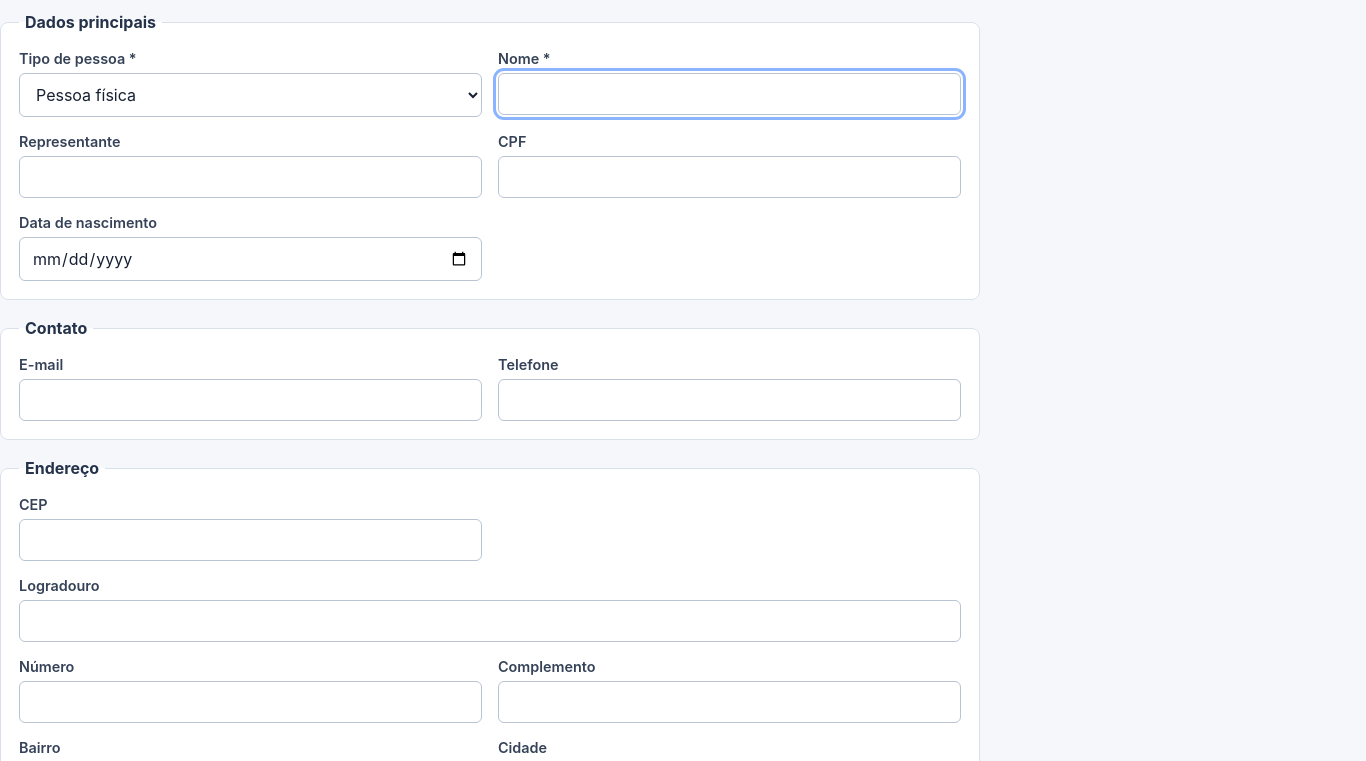
Test: CustomerForm › switches to company fields
Select "Pessoa jurídica" in the dropdown labelled "Tipo de pessoa *" at [250, 95], box [19, 73, 482, 117]
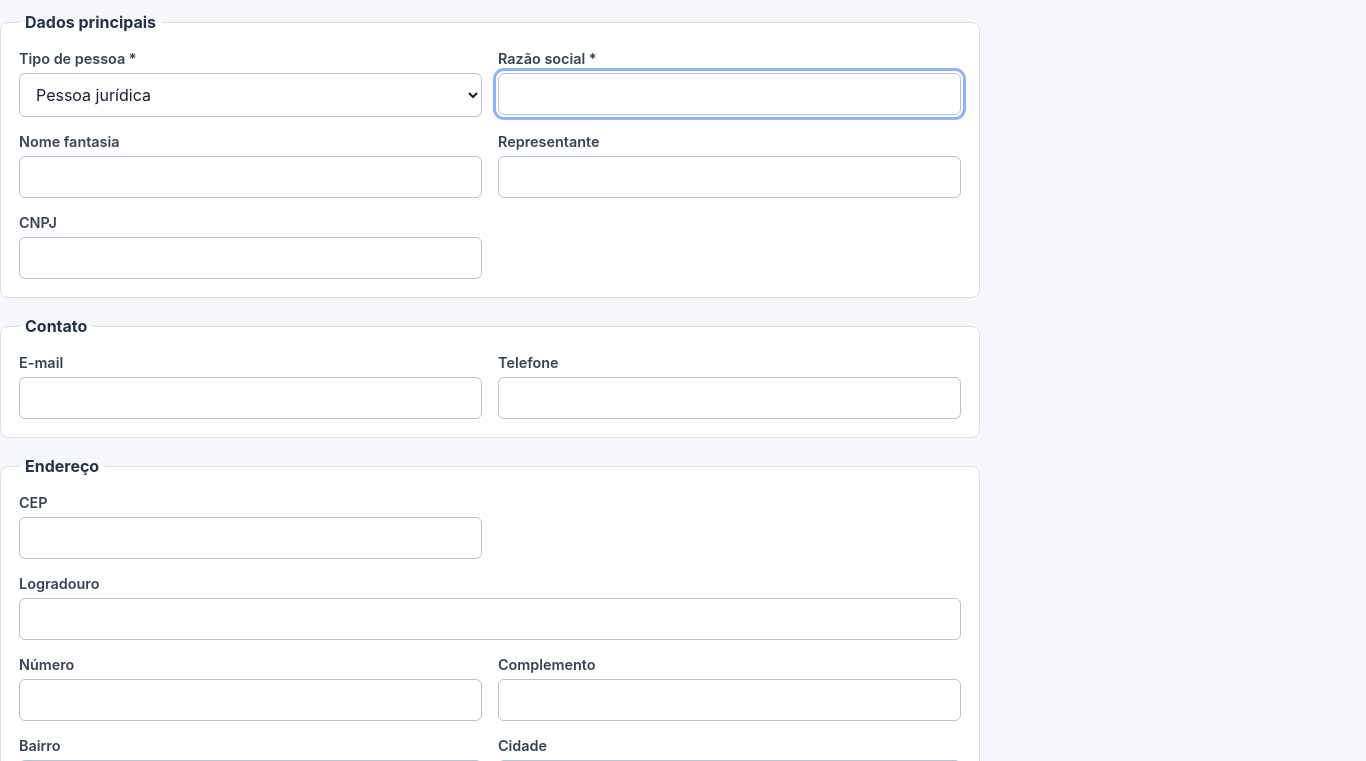
Expected: the field labelled "Razão social *" is shown, [498, 73, 961, 115]
Now the label labelled "Data de nascimento" is gone
